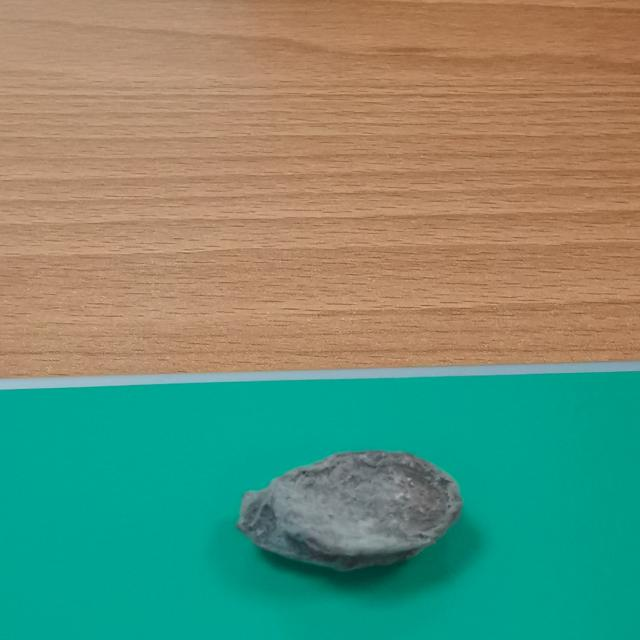Agglomerated_cocoabeans: (198, 424, 572, 630)
